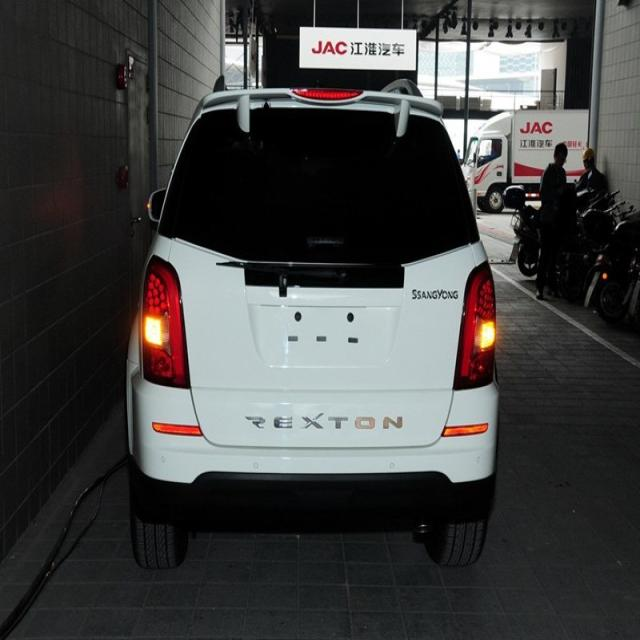back_glass: (158, 105, 485, 266)
back_left_side_light: (140, 252, 191, 388)
back_right_side_light: (452, 260, 502, 395)
front_left_side_mirror: (142, 180, 173, 232)
rear_bumper: (127, 360, 501, 484)
wheel: (130, 481, 188, 573), (426, 493, 485, 569)
